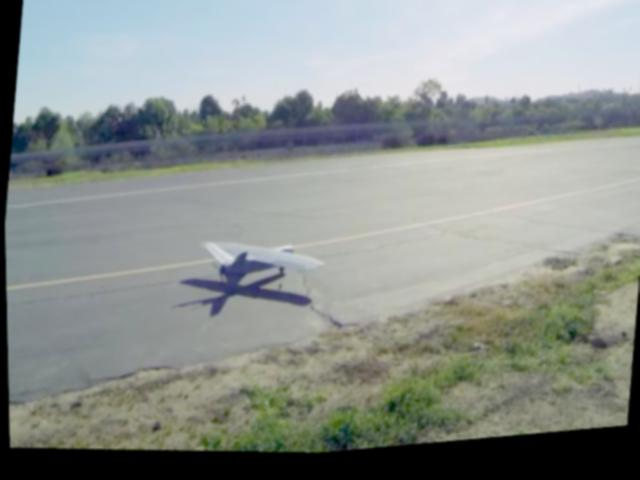iha: (193, 233, 327, 302)
